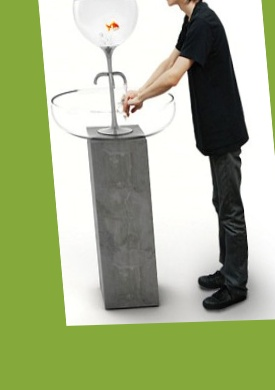washing hand: (83, 54, 168, 131)
